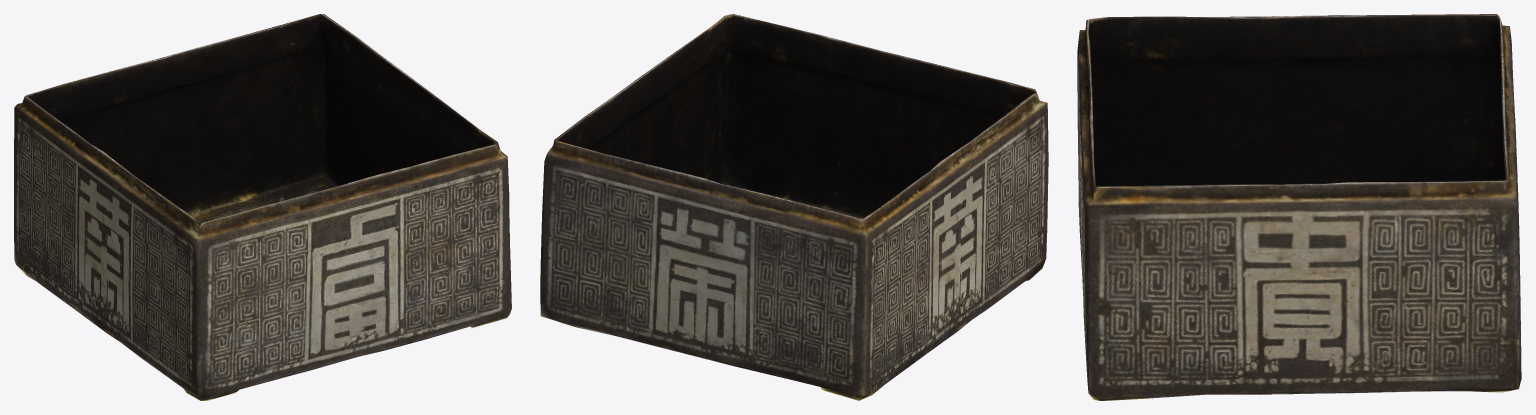
File: SM_Iron_Case_Silver.fbx
3 views of the same model, side by side, from view 1: azimuth 30°, elevation 25°; view 2: azimuth 150°, elevation 25°; view 3: azimuth 270°, elevation 25° (orthographic). The views are drawn at different scales.
Parts seen in each view (by area): view 1: KCDF_2022_prop_Iron_Case_with_Silver_Inlay_Mesh; view 2: KCDF_2022_prop_Iron_Case_with_Silver_Inlay_Mesh; view 3: KCDF_2022_prop_Iron_Case_with_Silver_Inlay_Mesh.
Part boxes in pixels (<box>): KCDF_2022_prop_Iron_Case_with_Silver_Inlay_Mesh: <box>14,14,511,400</box>; KCDF_2022_prop_Iron_Case_with_Silver_Inlay_Mesh: <box>540,14,1048,400</box>; KCDF_2022_prop_Iron_Case_with_Silver_Inlay_Mesh: <box>1077,14,1521,400</box>.
Bounding box in the file's own units: 13.17 × 7.23 × 13.23.
1 material, 1 textured.
